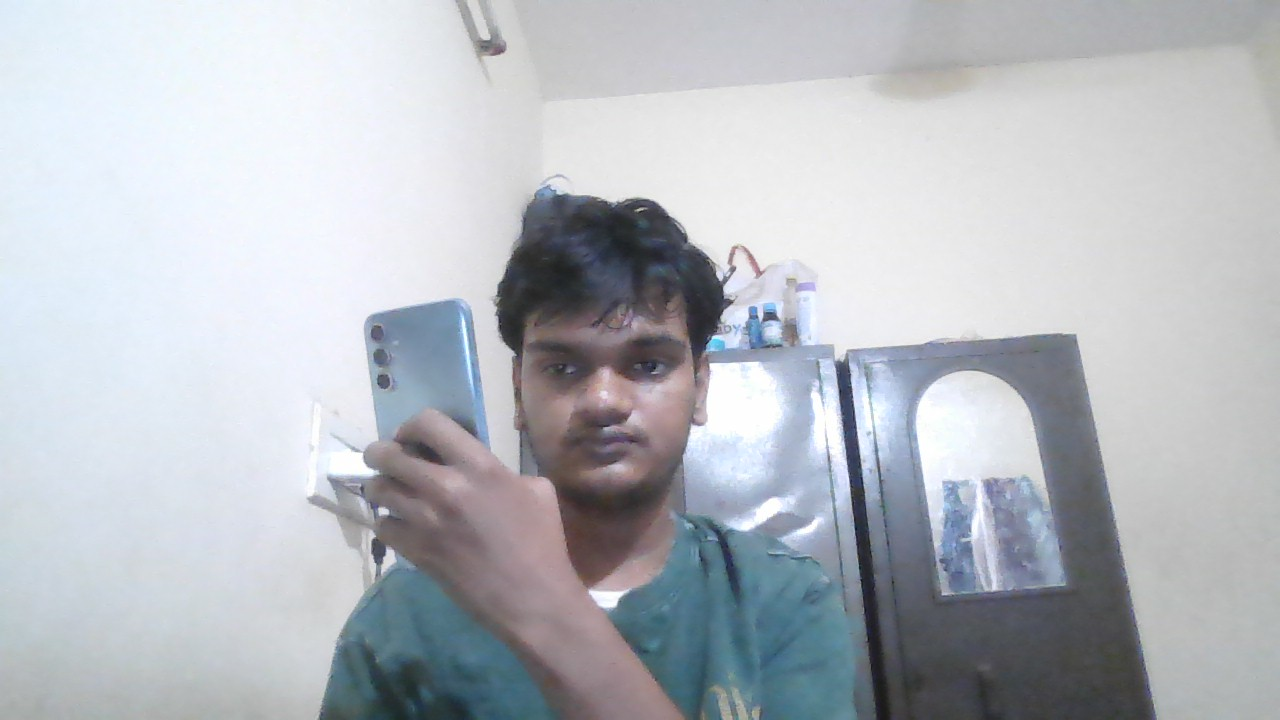phone: (361, 300, 481, 428)
